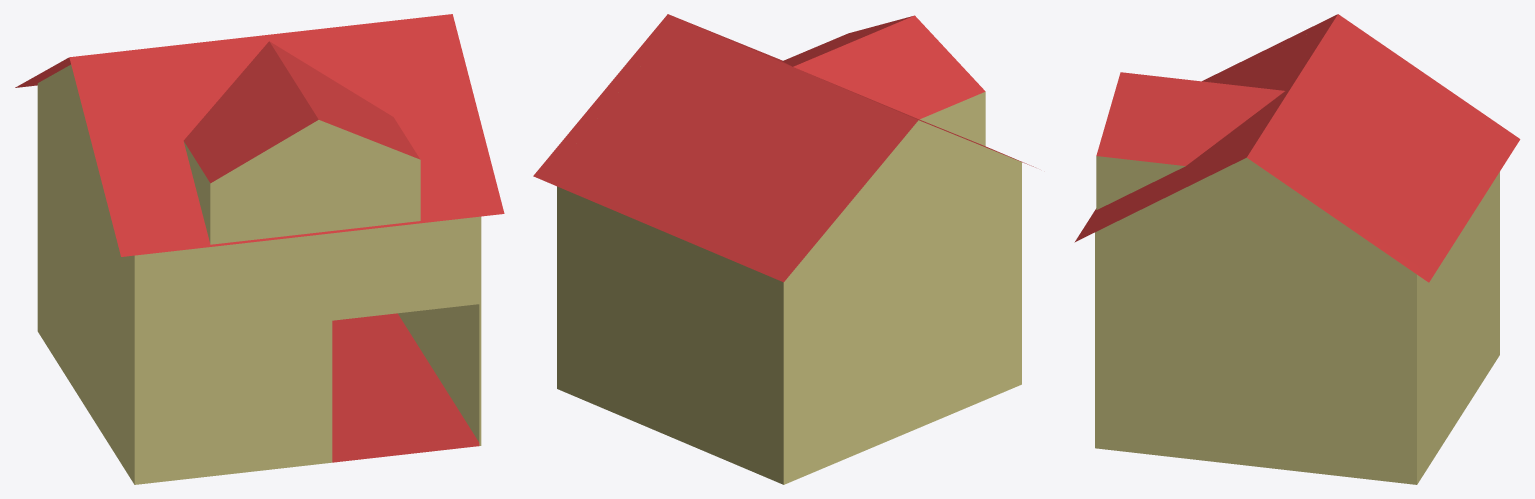
3 renders of one model, left to right at view 1: azimuth 30°, elevation 25°; view 2: azimuth 150°, elevation 25°; view 3: azimuth 270°, elevation 25°, orthographic. The views are drawn at different scales.
Bounding box in the file's own units: 12.93 × 13.25 × 10.34.
